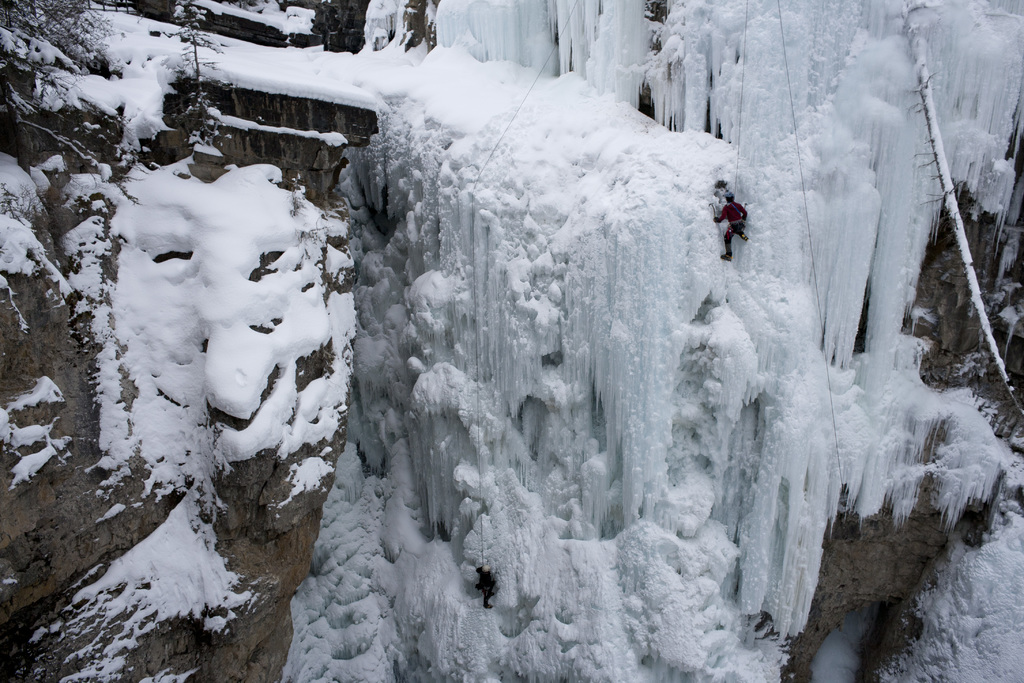Tree: (0, 0, 165, 206), (160, 0, 222, 140)
